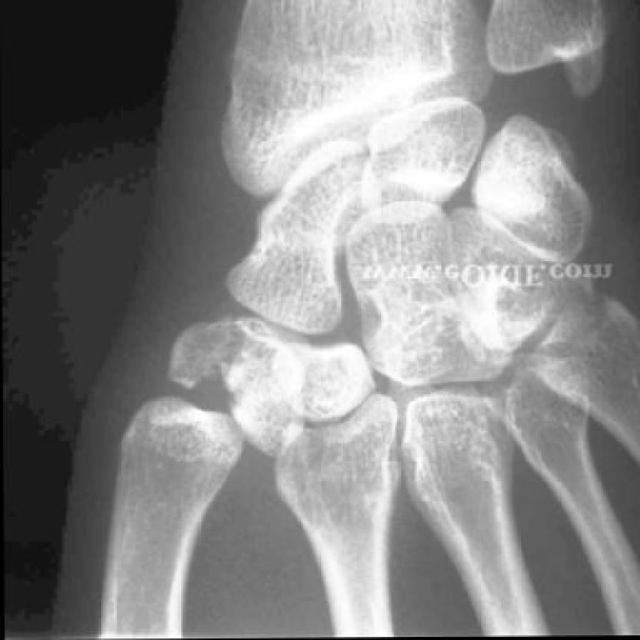Fracture: (171, 312, 303, 430)
